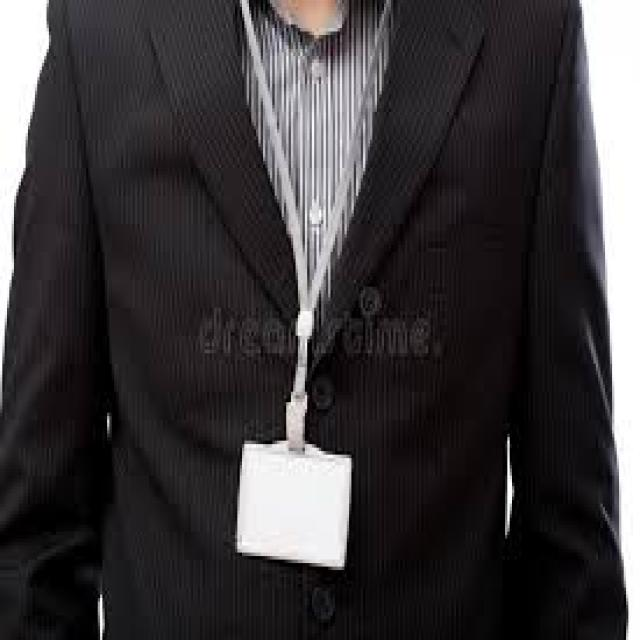id_card: (206, 8, 399, 578)
